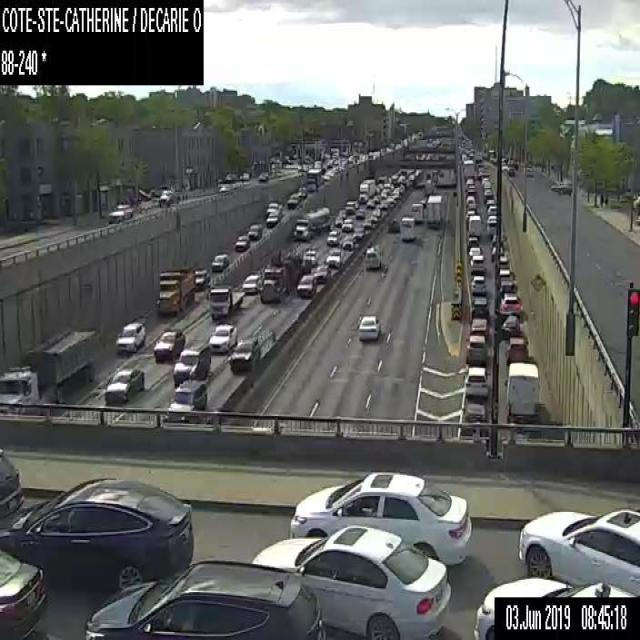vehicle: (250, 524, 450, 638), (0, 478, 194, 589), (83, 558, 324, 638), (289, 471, 471, 563), (517, 507, 639, 596), (474, 576, 639, 639), (0, 328, 95, 403), (0, 549, 45, 638), (259, 250, 311, 302), (503, 362, 539, 423), (156, 266, 194, 316), (0, 447, 24, 522), (173, 342, 210, 388), (103, 366, 143, 403), (206, 286, 244, 322), (167, 379, 207, 410), (294, 207, 329, 241), (228, 337, 260, 373), (153, 329, 185, 362), (115, 322, 145, 352), (209, 324, 237, 353), (460, 402, 486, 433), (464, 366, 490, 396), (504, 337, 528, 363), (465, 334, 486, 362), (358, 314, 380, 340), (499, 292, 522, 315), (426, 195, 441, 228), (297, 274, 316, 296), (108, 204, 132, 221), (241, 274, 261, 294), (471, 297, 489, 319), (358, 179, 375, 202), (502, 315, 520, 336), (400, 216, 415, 241), (364, 245, 380, 268), (469, 318, 488, 337), (306, 168, 321, 191), (211, 253, 229, 271), (266, 209, 284, 227), (313, 264, 331, 282), (194, 269, 210, 289), (470, 254, 485, 275), (550, 180, 572, 194), (471, 275, 486, 295), (468, 215, 481, 238), (326, 248, 342, 266), (304, 246, 318, 266), (326, 226, 341, 244), (159, 189, 175, 205), (411, 202, 423, 222), (234, 235, 250, 250), (247, 224, 262, 240), (468, 246, 482, 262), (464, 159, 474, 180), (287, 193, 301, 208), (266, 202, 282, 215), (499, 280, 516, 292), (491, 246, 504, 261), (500, 269, 512, 285), (466, 237, 478, 253), (352, 227, 364, 242), (345, 200, 358, 213), (387, 218, 399, 232), (341, 218, 353, 232), (342, 235, 354, 248), (465, 210, 475, 225), (465, 195, 475, 210), (218, 183, 234, 192), (491, 234, 502, 247), (486, 214, 496, 228), (298, 186, 307, 200), (483, 189, 494, 200), (499, 256, 509, 268), (466, 184, 476, 196), (464, 178, 474, 190), (485, 198, 495, 209), (481, 177, 491, 188), (523, 165, 533, 176), (508, 159, 518, 169), (354, 208, 364, 218), (486, 205, 496, 214), (258, 172, 268, 181), (365, 199, 375, 208), (362, 218, 371, 228), (334, 216, 342, 226), (380, 189, 388, 198), (372, 208, 381, 216), (338, 209, 346, 218), (419, 198, 426, 208), (240, 172, 248, 180), (369, 214, 377, 222), (508, 167, 514, 176), (501, 161, 507, 170), (373, 196, 380, 203), (425, 172, 430, 179), (439, 171, 443, 177)
